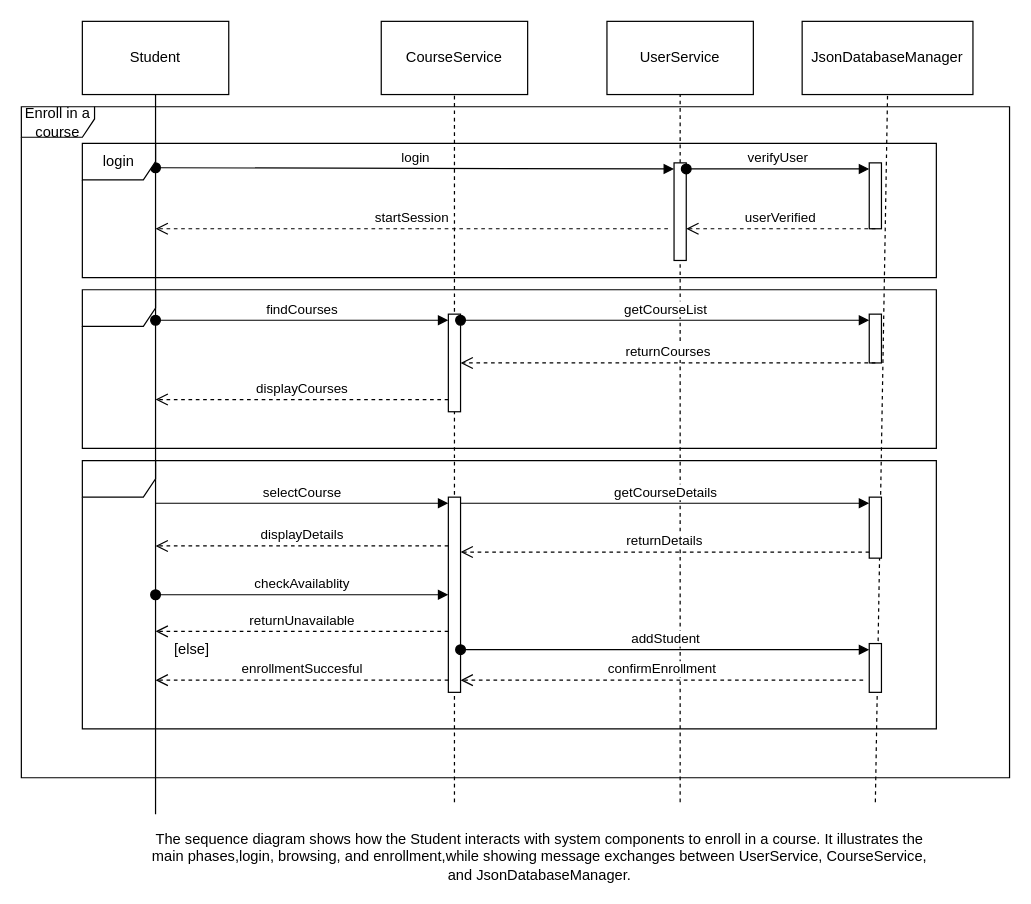
The diagram is 1031 pixels wide and 904 high, and some of its shapes have lost their labels. Each missing label, with the box of its shape:
availabiity and selection: (81, 459, 936, 729)
browse courses: (81, 289, 936, 448)
